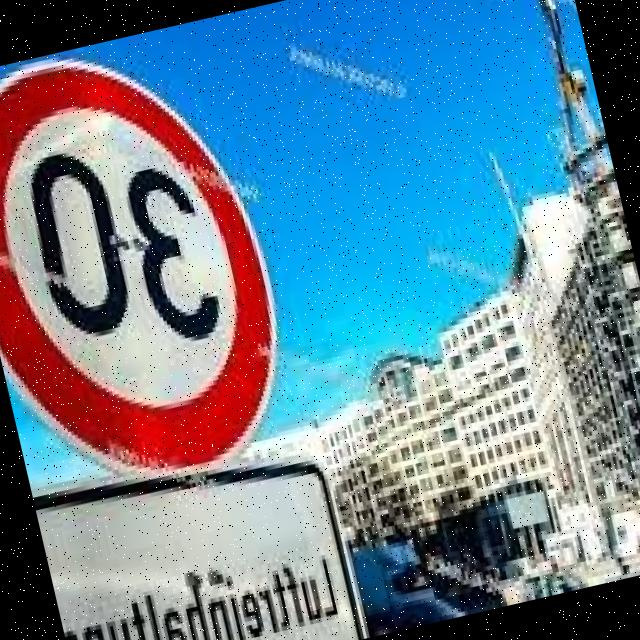speed_limit_30: (0, 13, 327, 506)
